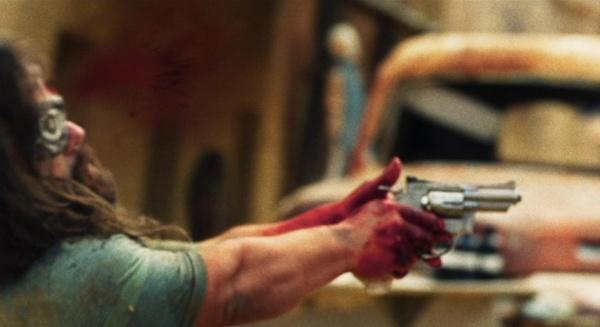Gun: (386, 179, 523, 265)
